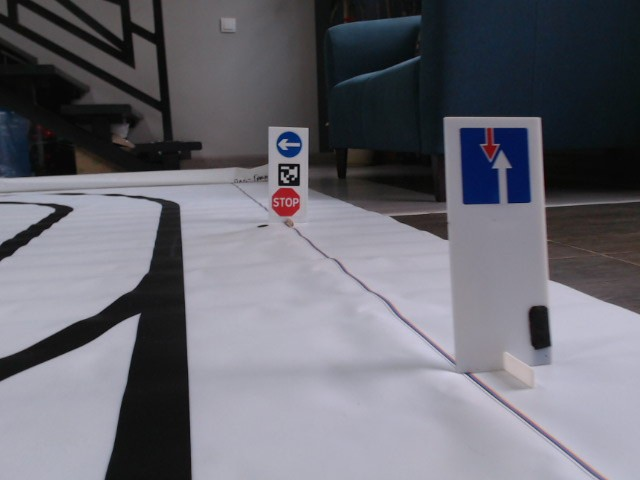Stop: (270, 187, 300, 217)
priority_movement: (458, 126, 531, 204)
